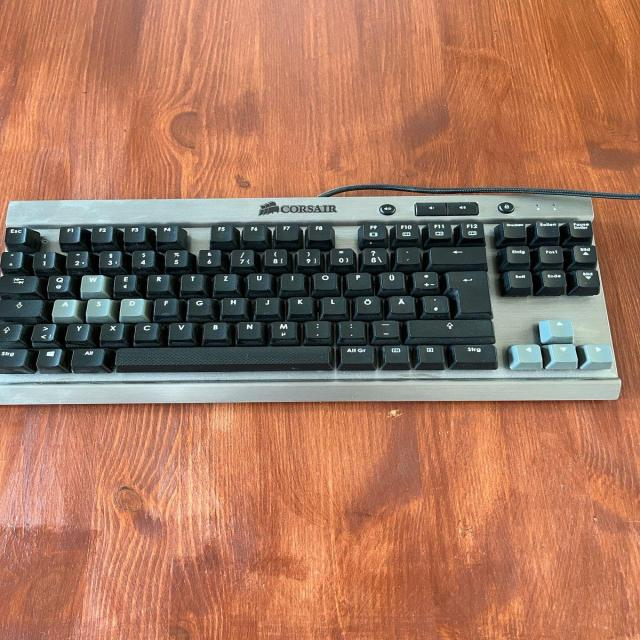0: (327, 247, 354, 266)
1: (31, 250, 55, 268)
2: (64, 249, 88, 268)
3: (97, 249, 121, 268)
4: (130, 248, 154, 267)
5: (163, 248, 187, 266)
6: (196, 248, 221, 266)
7: (229, 248, 254, 267)
8: (262, 247, 287, 266)
9: (294, 247, 320, 266)
a: (51, 298, 76, 317)
accent: (394, 245, 419, 264)
ae: (388, 294, 415, 313)
alt-left: (68, 346, 104, 366)
altgr-right: (336, 343, 374, 364)
b: (201, 320, 227, 339)
c: (132, 321, 158, 340)
caret: (0, 249, 22, 268)
comma: (304, 319, 330, 338)
d: (118, 297, 143, 316)
del: (428, 245, 485, 264)
e: (112, 272, 136, 291)
enter: (445, 269, 490, 313)
f: (153, 296, 177, 315)
g: (186, 296, 210, 315)
h: (219, 295, 245, 314)
hash: (421, 294, 447, 313)
i: (279, 271, 304, 289)
j: (253, 295, 278, 314)
k: (287, 295, 312, 314)
keyboard: (1, 193, 622, 406)
l: (320, 295, 346, 314)
less: (29, 322, 55, 341)
m: (268, 319, 297, 339)
minus: (370, 318, 399, 338)
n: (235, 320, 261, 339)
o: (311, 271, 337, 289)
oe: (354, 294, 380, 313)
p: (345, 270, 370, 288)
plus: (412, 270, 437, 289)
point: (337, 319, 363, 337)
q: (45, 273, 70, 292)
r: (145, 272, 169, 290)
s: (85, 297, 109, 316)
shift-left: (0, 322, 21, 339)
shift-lock: (1, 298, 42, 316)
shift-right: (406, 318, 493, 337)
space: (112, 345, 332, 369)
ss: (360, 246, 387, 265)
strg-left: (0, 348, 26, 367)
strg-right: (451, 342, 498, 363)
t: (179, 272, 203, 290)
tab: (0, 273, 36, 291)
u: (246, 271, 271, 289)
ue: (378, 270, 403, 289)
v: (167, 320, 192, 339)
w: (79, 273, 103, 291)
x: (98, 321, 123, 340)
y: (63, 322, 88, 340)
z: (213, 272, 237, 290)
